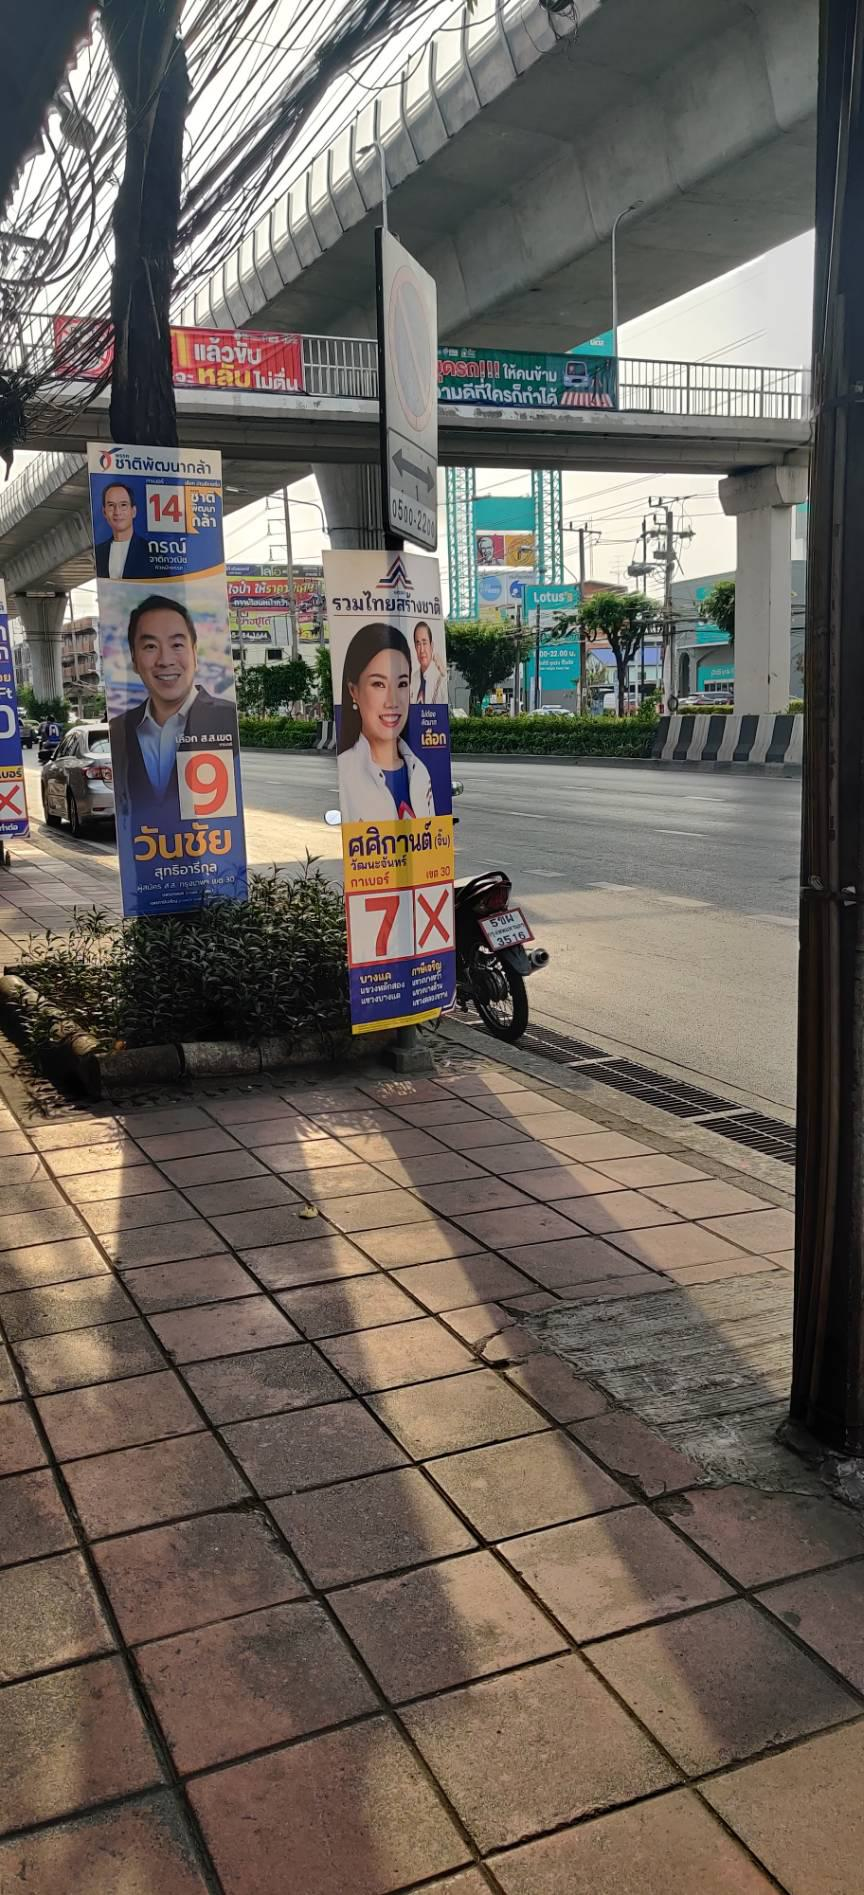Banner: (85, 450, 263, 911), (319, 529, 469, 1038)
